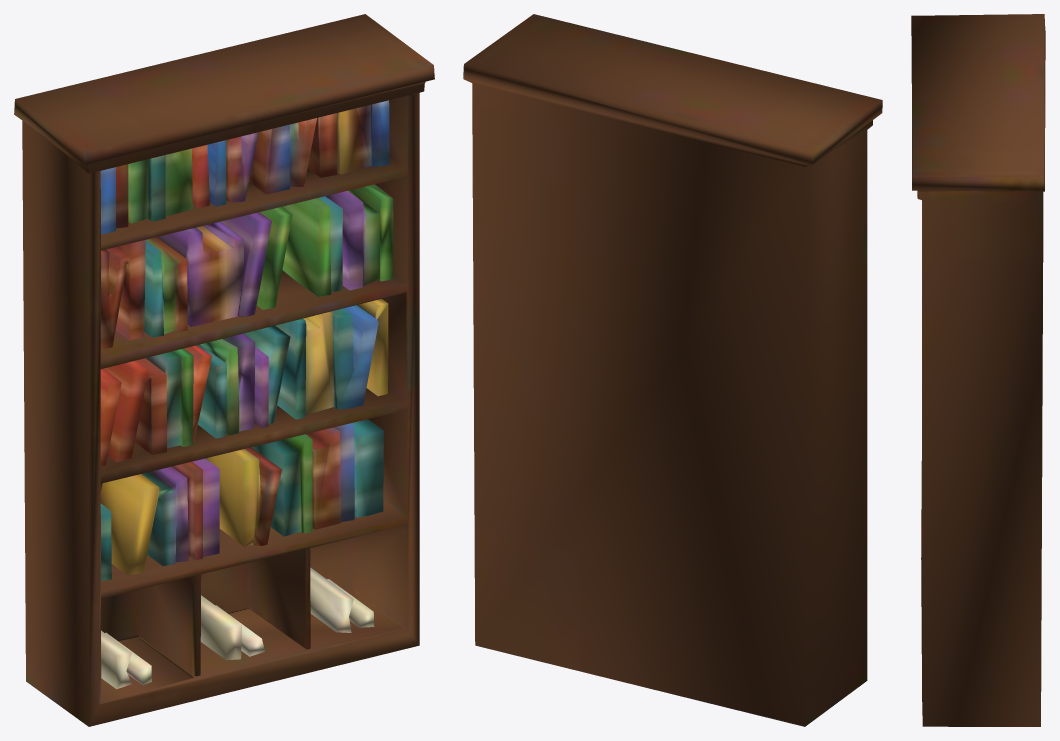
Rendered from bookcase.glb.
3 renders of one model, left to right at view 1: azimuth 30°, elevation 25°; view 2: azimuth 150°, elevation 25°; view 3: azimuth 270°, elevation 25°, orthographic. The views are drawn at different scales.
Parts seen in each view (by area): view 1: case; view 2: case; view 3: case.
Boxes of the visible parts, box(x1,y1,x2,y2) form: case: box(14, 14, 434, 726); case: box(463, 14, 882, 726); case: box(911, 14, 1045, 726).
Size of the model in its own units: 1.27 by 2.01 by 0.4406.
Materials: 1 (1 with a texture image).
